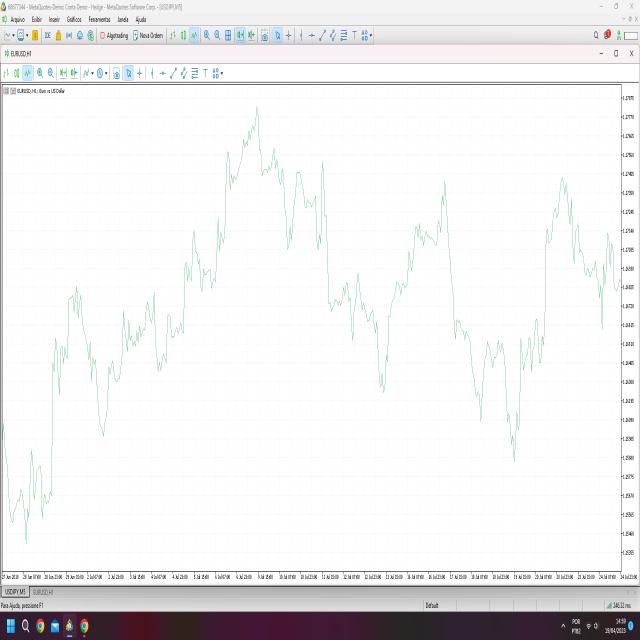oco_inv: (444, 259, 562, 483), (215, 96, 294, 234), (0, 418, 67, 560)
